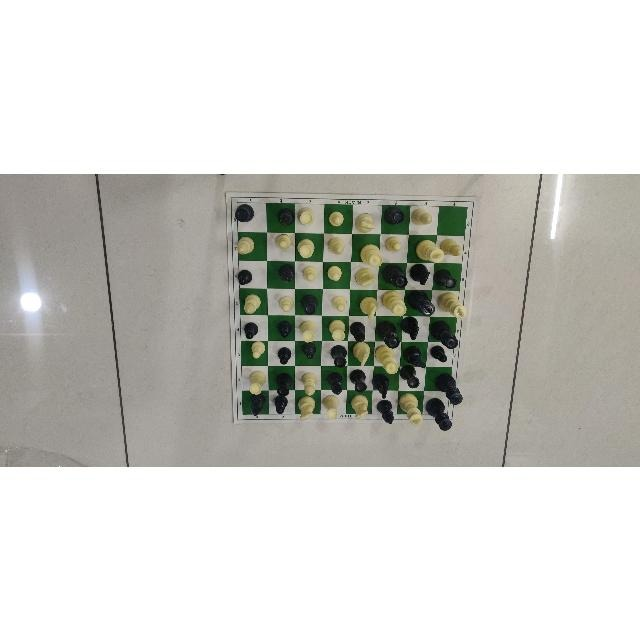black-bishop: (376, 399, 395, 425), (324, 370, 343, 393), (247, 394, 267, 415), (348, 319, 367, 341), (277, 263, 297, 283), (276, 206, 296, 225)
black-king: (435, 367, 466, 407), (424, 395, 452, 430), (407, 289, 437, 319)
black-knight: (407, 262, 432, 288), (402, 342, 427, 368), (400, 314, 420, 340), (374, 370, 392, 398)
black-pawn: (235, 265, 257, 287), (275, 317, 294, 340), (431, 343, 451, 364), (271, 396, 289, 416), (243, 322, 260, 340), (302, 342, 319, 359), (276, 346, 291, 364)
black-queen: (373, 317, 399, 347), (429, 318, 456, 346), (383, 262, 409, 287)
black-rook: (433, 265, 459, 291), (381, 203, 404, 228), (348, 366, 369, 391), (299, 292, 318, 316), (400, 364, 419, 388), (331, 342, 349, 367), (234, 202, 255, 222), (275, 370, 291, 394)
white-bishop: (411, 205, 435, 229), (241, 290, 262, 315), (300, 370, 320, 395), (326, 234, 347, 257), (236, 232, 255, 255), (445, 236, 462, 260)
white-king: (398, 388, 422, 428), (439, 290, 467, 319), (415, 238, 445, 262)
white-knight: (349, 391, 370, 419), (294, 394, 317, 418), (353, 268, 378, 288), (351, 340, 371, 365), (360, 292, 380, 317), (353, 211, 376, 231)
white-pawn: (329, 294, 349, 314), (277, 294, 295, 314), (326, 209, 345, 227), (384, 234, 403, 252), (273, 231, 292, 249), (325, 262, 342, 282), (301, 263, 319, 281), (249, 342, 265, 360)
white-queen: (357, 239, 383, 266), (380, 288, 407, 314), (374, 345, 396, 374)
white-rook: (298, 316, 320, 341), (297, 204, 317, 230), (326, 317, 347, 341), (297, 235, 317, 259), (244, 367, 263, 392), (322, 393, 340, 419)
